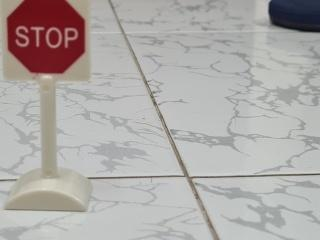stop: (0, 0, 91, 97)
